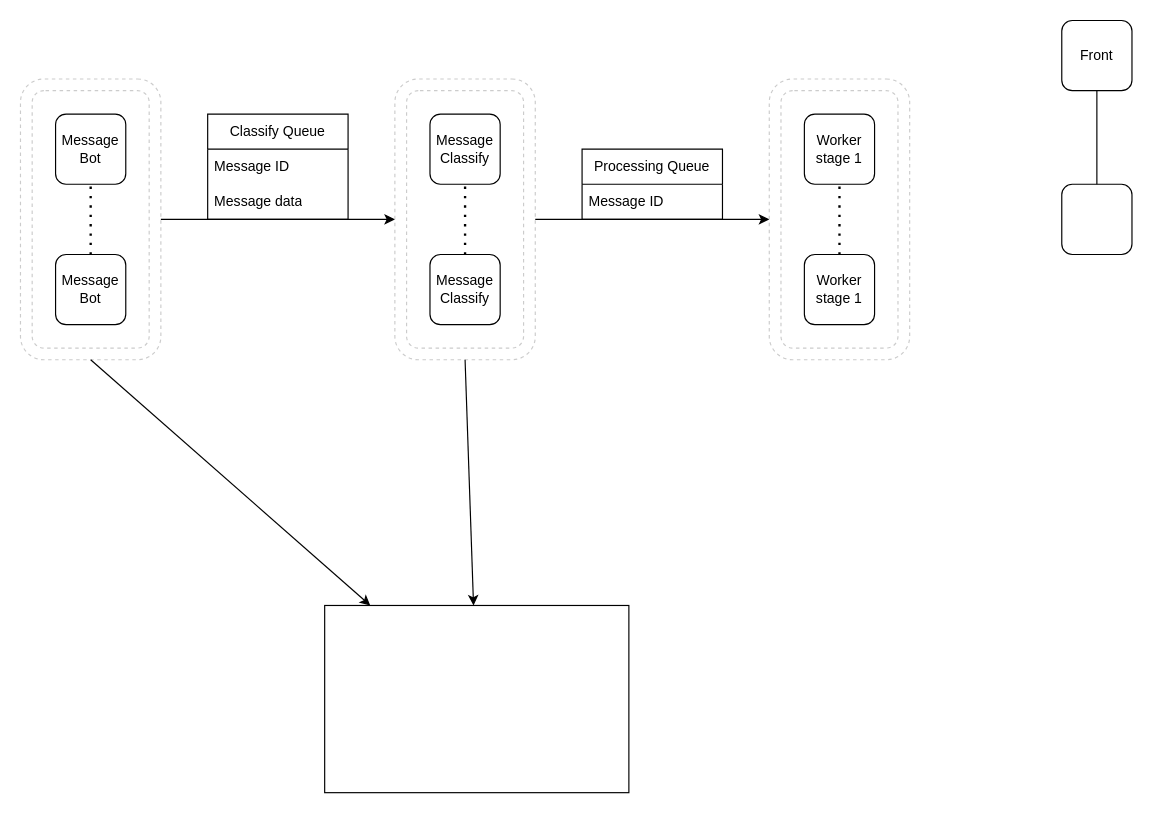
This 1152x813 diagram has some shape labels left out. Each missing label, with the centre of its shape:
Database: pixel 476 698
Front API: pixel 1096 218
